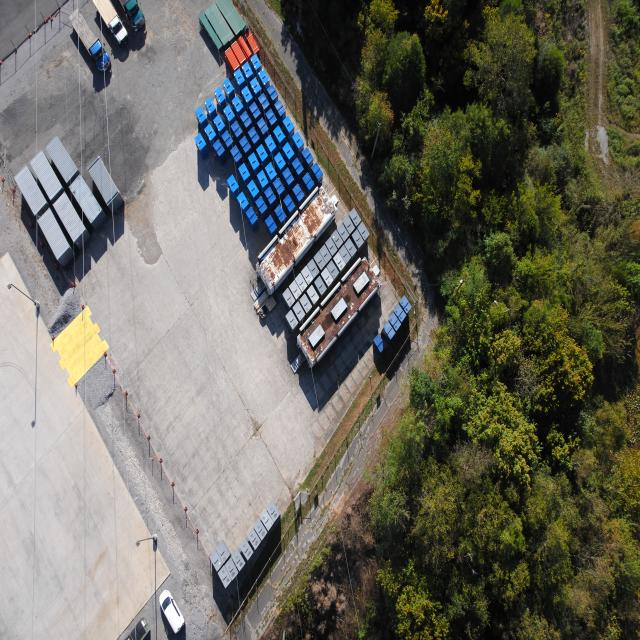Area of Interest: (309, 6, 640, 634)
